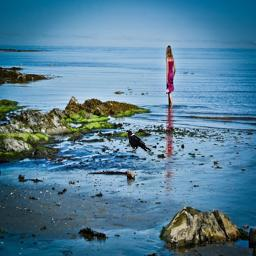Crow: (126, 129, 152, 152)
